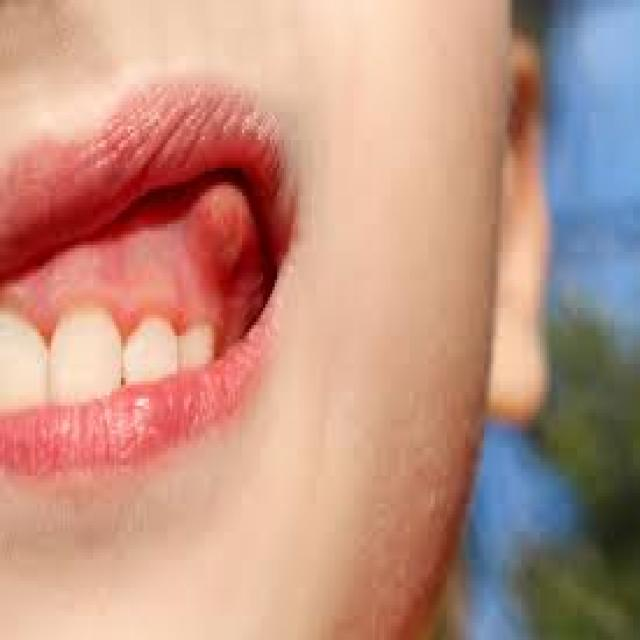abscess: (150, 162, 269, 292)
